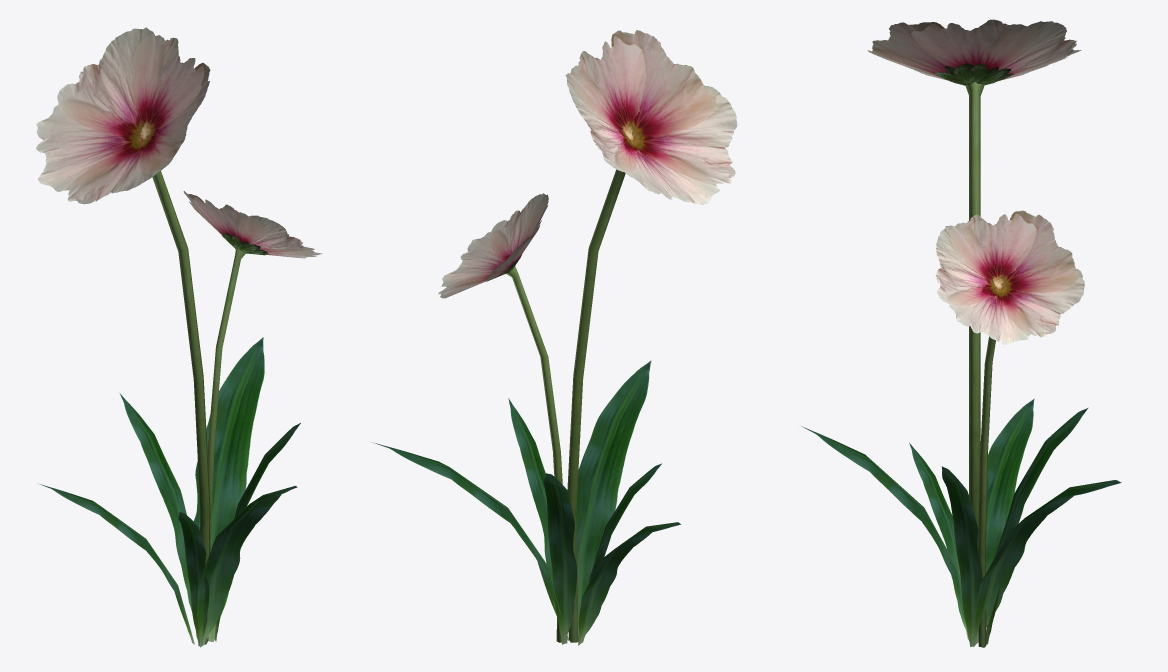
The model's file is Flower_01.FBX.
3 renders of one model, left to right at view 1: azimuth 30°, elevation 25°; view 2: azimuth 150°, elevation 25°; view 3: azimuth 270°, elevation 25°, orthographic. The views are drawn at different scales.
Parts seen in each view (by area): view 1: Flower_01; view 2: Flower_01; view 3: Flower_01.
Part boxes in pixels (left/top/right/bottom): Flower_01: left=36, top=27, right=322, bottom=647; Flower_01: left=371, top=30, right=737, bottom=645; Flower_01: left=801, top=19, right=1121, bottom=647.
Size of the model in its own units: 0.6061 by 1.16 by 0.6094.
